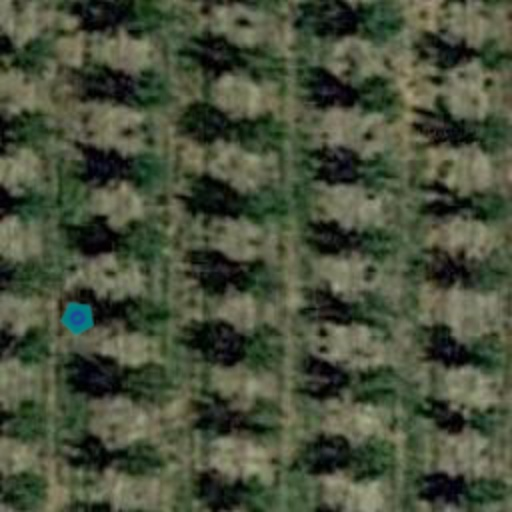pentagon: (52, 292, 104, 344)
